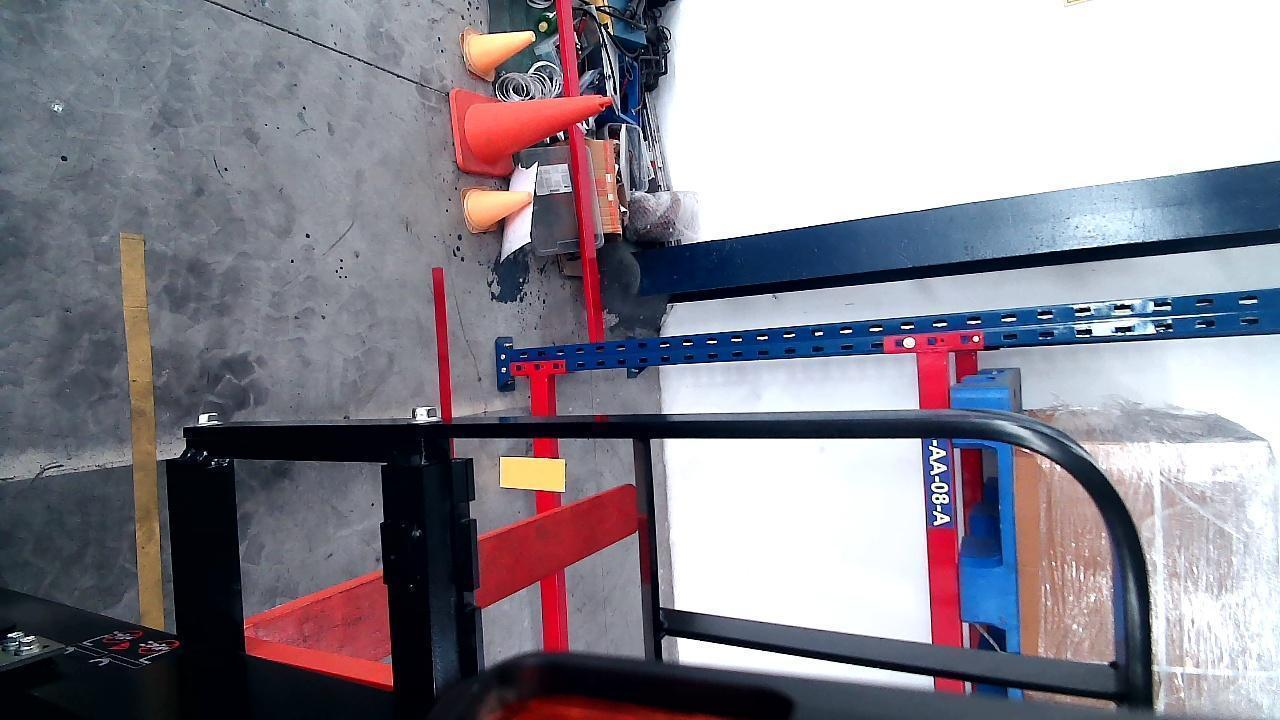red_line: (428, 261, 457, 418)
yellow_line: (126, 228, 164, 625)
